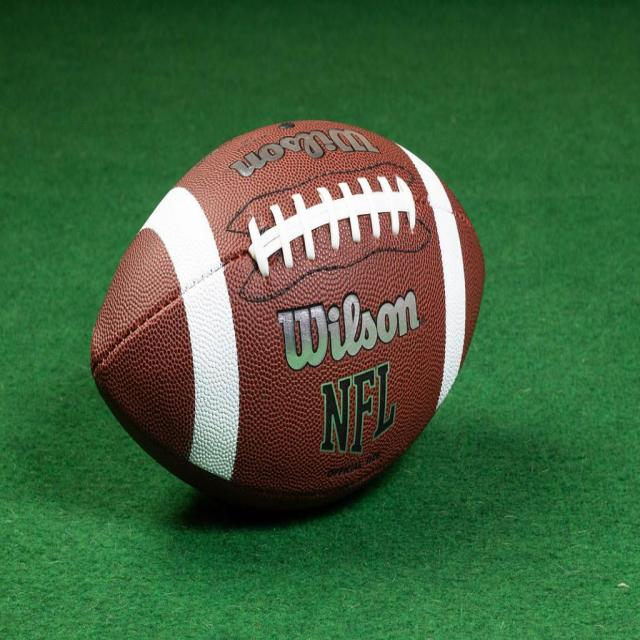ball: (66, 96, 508, 514)
